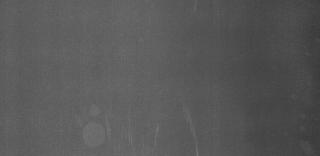oil spot: (80, 99, 112, 149)
silk spot: (120, 121, 170, 149), (182, 102, 198, 132)
